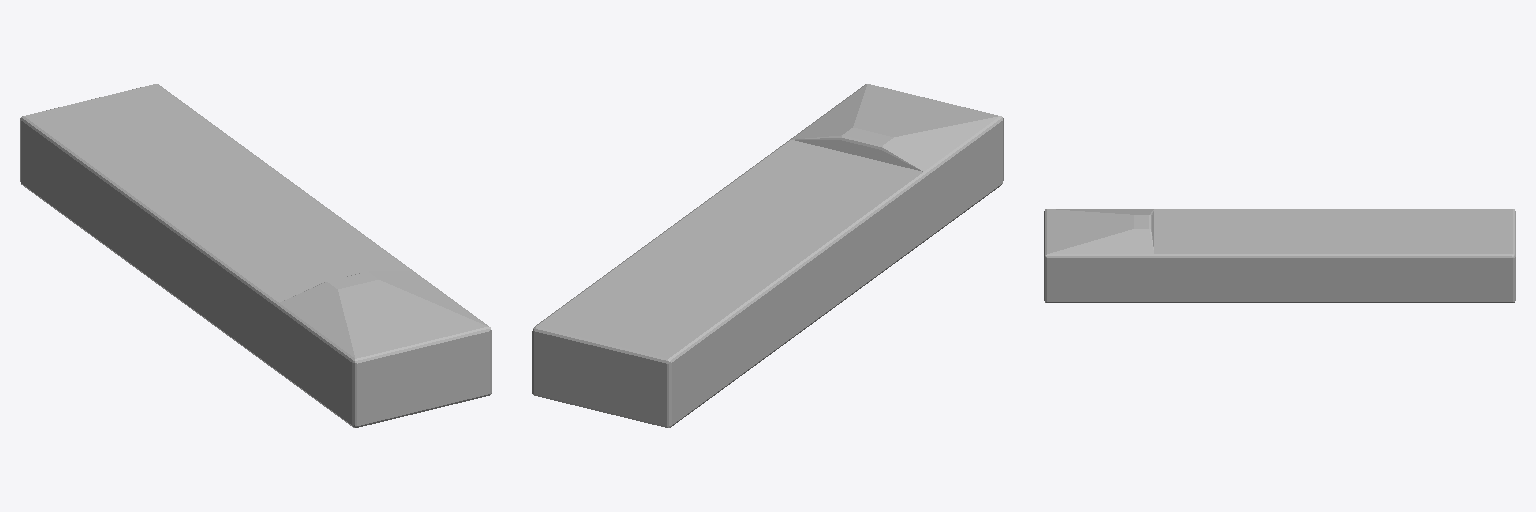
URDF robot description (root):
<?xml version="1.0"?>
<robot name="root">
  <link name="base_link">
    <visual>
      <origin xyz="0 0 0" rpy="0 0 0" />
      <geometry>
        <mesh filename="../meshes/unidex_core_remote-55858ff5b407677f35a527bc320873ed_012.obj" scale="1.0000E+00 1.0000E+00 1.0000E+00" />
      </geometry>
      <material name="">
        <color rgba="7.50E-01 7.50E-01 7.50E-01 1" />
      </material>
    </visual>
    <collision>
      <origin xyz="0 0 0" rpy="0 0 0" />
      <geometry>
        <mesh filename="../meshes/unidex_core_remote-55858ff5b407677f35a527bc320873ed_012.obj" scale="1.0000E+00 1.0000E+00 1.0000E+00" />
      </geometry>
    </collision>
  </link>
</robot>

--- Facts derived from the render (not from the file) ---
Views: 3 orthographic renders of the robot side by side, from view 1: azimuth 30°, elevation 25°; view 2: azimuth 150°, elevation 25°; view 3: azimuth 270°, elevation 25°.
Model root with 1 links and 0 joints (none), rooted at base_link, posed every joint at zero.
Visible links, largest first — view 1: base_link; view 2: base_link; view 3: base_link.
Link boxes in pixels (<box>): base_link: <box>20,84,491,427</box>; base_link: <box>532,84,1003,427</box>; base_link: <box>1044,209,1515,302</box>.
Size in the robot's own frame: 0.0544 by 0.2276 by 0.0371 metres.
1 mesh visuals loaded from 1 distinct referenced files (1 OBJ).
